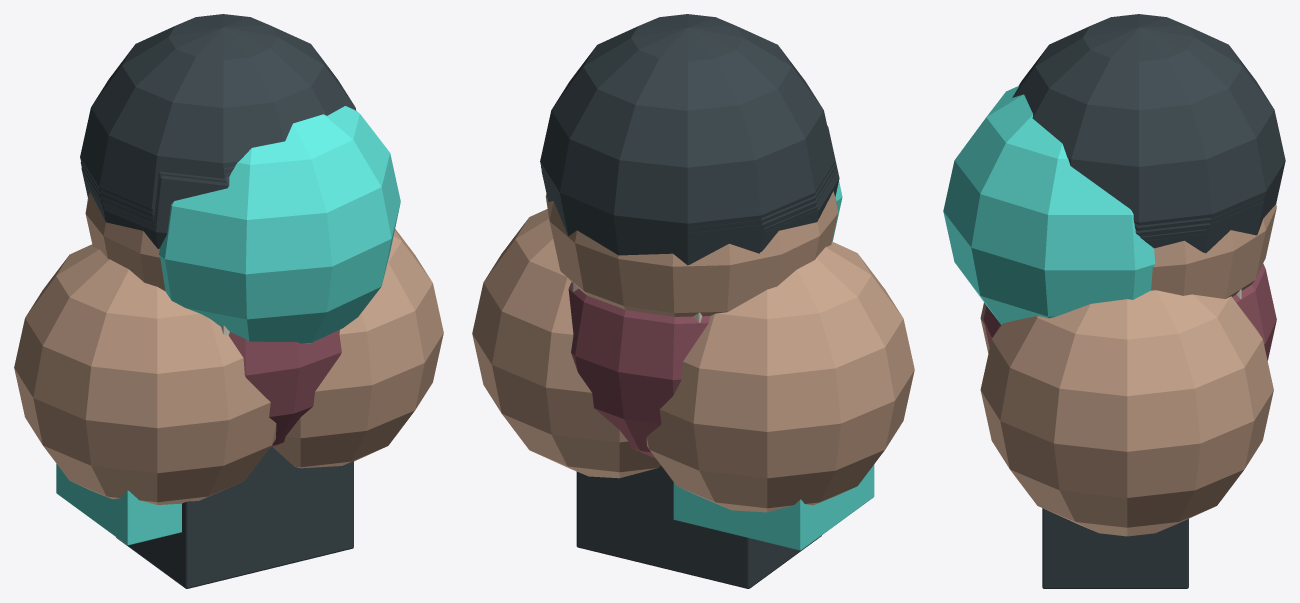
File: Mara_Rook.fbx
3 views of the same model, side by side, from view 1: azimuth 30°, elevation 25°; view 2: azimuth 150°, elevation 25°; view 3: azimuth 270°, elevation 25° (orthographic). The views are drawn at different scales.
Visible parts, largest first — view 1: RightHandMesh, IntentEye, Hair_4, LeftHandMesh, RightFootMesh, LeftFootMesh, Coat, HatchFork_Tines, HeadMesh, Hair_0, Hair_1; view 2: Hair_4, RightHandMesh, LeftHandMesh, HeadMesh, Coat, RightFootMesh, HatchFork_Tines, LeftFootMesh, Hair_2, Hair_3, Hair_0; view 3: LeftHandMesh, Hair_4, IntentEye, LeftFootMesh, HeadMesh, Coat, Hair_2, Hair_3, Hair_0.
Part boxes in pixels (x1=…): RightHandMesh: x1=14, y1=244, x2=276, y2=504; IntentEye: x1=159, y1=106, x2=400, y2=343; Hair_4: x1=80, y1=14, x2=356, y2=210; LeftHandMesh: x1=273, y1=229, x2=443, y2=468; RightFootMesh: x1=116, y1=447, x2=308, y2=588; LeftFootMesh: x1=232, y1=459, x2=353, y2=577; Coat: x1=228, y1=330, x2=341, y2=447; HatchFork_Tines: x1=56, y1=464, x2=181, y2=545; HeadMesh: x1=85, y1=192, x2=165, y2=290; Hair_0: x1=84, y1=175, x2=229, y2=248; Hair_1: x1=83, y1=171, x2=229, y2=227; Hair_4: x1=540, y1=14, x2=834, y2=265; RightHandMesh: x1=646, y1=241, x2=914, y2=512; LeftHandMesh: x1=472, y1=209, x2=660, y2=478; HeadMesh: x1=545, y1=191, x2=838, y2=316; Coat: x1=568, y1=282, x2=709, y2=458; RightFootMesh: x1=623, y1=469, x2=821, y2=588; HatchFork_Tines: x1=673, y1=464, x2=874, y2=550; LeftFootMesh: x1=576, y1=465, x2=691, y2=575; Hair_2: x1=541, y1=167, x2=836, y2=264; Hair_3: x1=541, y1=163, x2=835, y2=264; Hair_0: x1=763, y1=126, x2=839, y2=249; LeftHandMesh: x1=980, y1=290, x2=1273, y2=536; Hair_4: x1=1012, y1=14, x2=1285, y2=234; IntentEye: x1=943, y1=85, x2=1155, y2=324; LeftFootMesh: x1=1042, y1=508, x2=1188, y2=588; HeadMesh: x1=1151, y1=204, x2=1276, y2=298; Coat: x1=983, y1=263, x2=1276, y2=360; Hair_2: x1=1135, y1=202, x2=1262, y2=253; Hair_3: x1=1134, y1=197, x2=1264, y2=234; Hair_0: x1=1144, y1=234, x2=1203, y2=251.
Size of the model in its own units: 3.16 by 3.91 by 2.33.
